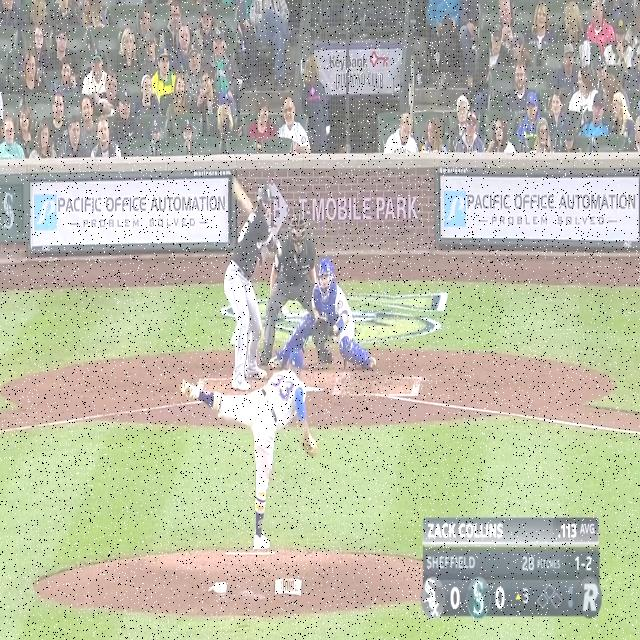baseball: (281, 305, 289, 318)
